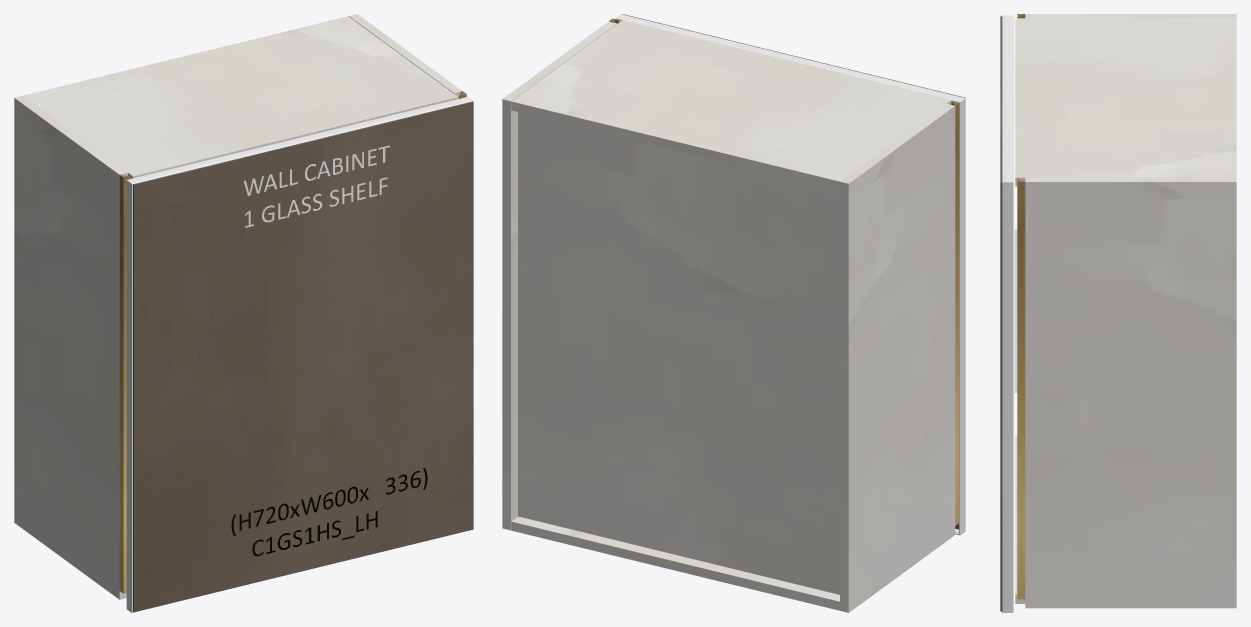
The picture shows the model from 3 angles, left to right: view 1: azimuth 30°, elevation 25°; view 2: azimuth 150°, elevation 25°; view 3: azimuth 270°, elevation 25°; orthographic projection.
Size of what is drawn, in the model's own units: 0.6 by 0.7185 by 0.366.
7 materials, 3 textured.
